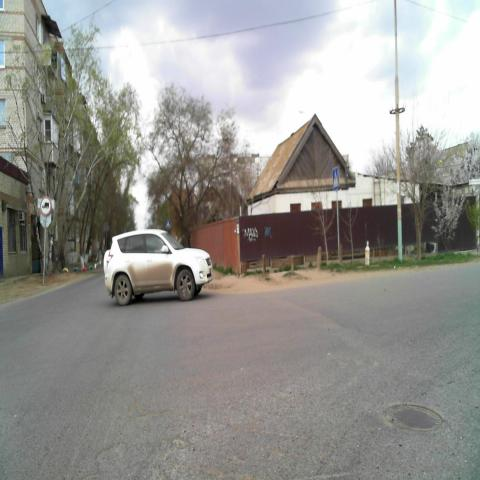3_4_1: (40, 197, 52, 215)
